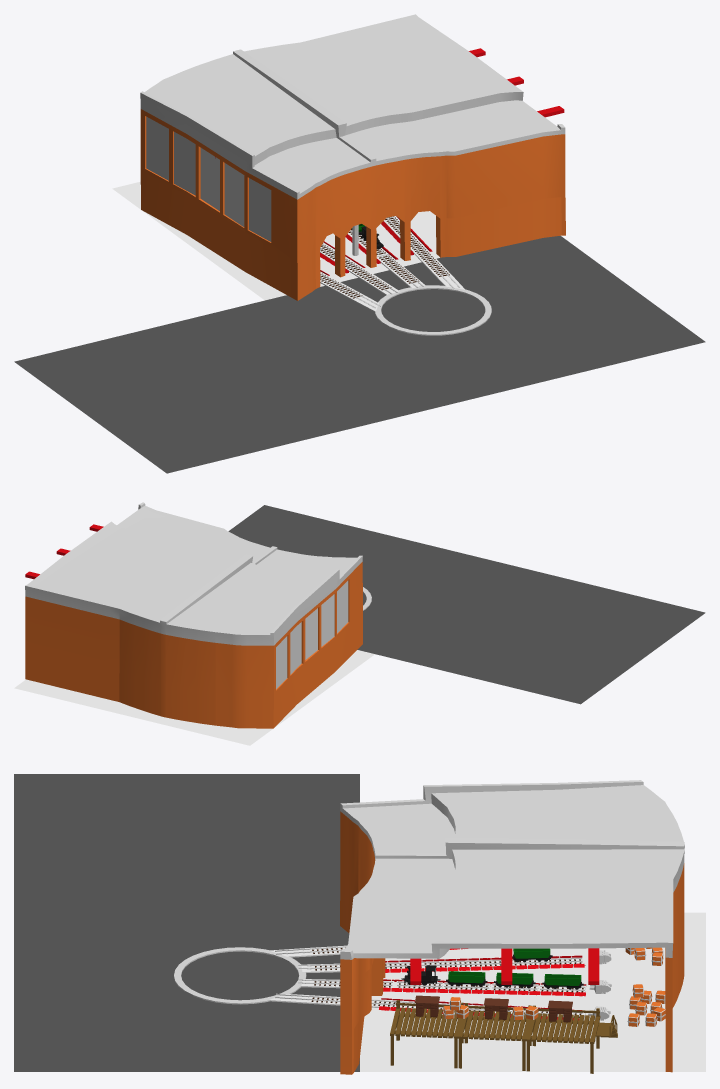
File: mainpage.fbx
3 views of the same model, one above another, from view 1: azimuth 30°, elevation 25°; view 2: azimuth 150°, elevation 25°; view 3: azimuth 270°, elevation 25° (orthographic). The views are drawn at different scales.
Parts seen in each view (by area): view 1: Plane.001, Cube.002, Plane, Cube.023, Circle, Cube.013, Cube.017, Cube.016, Cube.014, Cube.015, Cube.003; view 2: Cube.002, Plane.001, Plane, Cube.014, Cube.015, Cube.016, Cube.017, Cube.013; view 3: Plane.001, Cube.002, Plane, Cube.012, Circle, Cube.023, Cube.008, Cube.034, Cube.006, Cube.001, Cube.003, Cube.004 (+4 smaller).
Part boxes in pixels (<box>): Plane.001: <box>14,235,705,473</box>; Cube.002: <box>140,14,565,300</box>; Plane: <box>112,181,439,300</box>; Cube.023: <box>320,216,464,311</box>; Circle: <box>375,285,491,335</box>; Cube.013: <box>249,178,271,241</box>; Cube.017: <box>146,116,168,180</box>; Cube.016: <box>174,132,195,195</box>; Cube.014: <box>224,163,244,226</box>; Cube.015: <box>200,148,219,210</box>; Cube.003: <box>320,216,460,308</box>; Cube.002: <box>25,502,362,728</box>; Plane.001: <box>228,505,705,704</box>; Plane: <box>14,650,374,745</box>; Cube.014: <box>321,594,334,646</box>; Cube.015: <box>305,608,317,659</box>; Cube.016: <box>290,622,301,674</box>; Cube.017: <box>276,636,287,688</box>; Cube.013: <box>337,580,348,633</box>; Plane.001: <box>14,774,359,1071</box>; Cube.002: <box>340,780,684,1074</box>; Plane: <box>360,912,705,1071</box>; Cube.012: <box>390,1000,600,1073</box>; Circle: <box>174,947,306,1004</box>; Cube.023: <box>269,945,585,1018</box>; Cube.008: <box>410,948,599,984</box>; Cube.034: <box>627,984,665,1026</box>; Cube.006: <box>298,957,582,970</box>; Cube.001: <box>385,955,584,972</box>; Cube.003: <box>275,946,582,1017</box>; Cube.004: <box>383,979,586,996</box>.
Size of the model in its own units: 35020 by 7034 by 32394.
